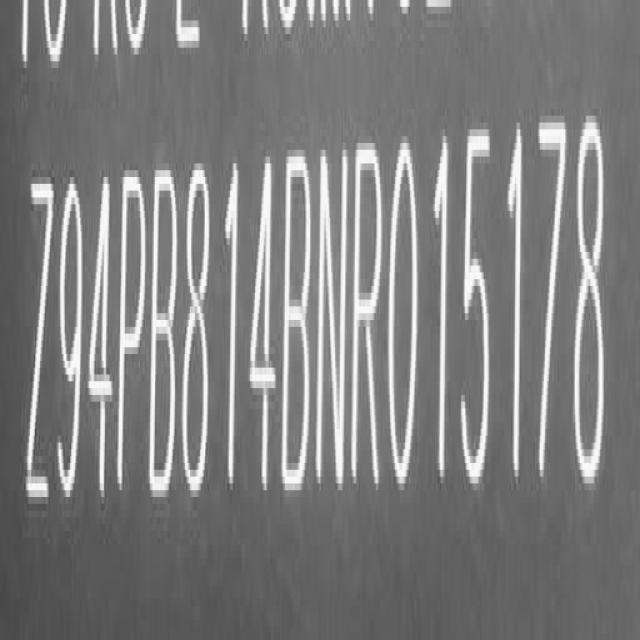0: (391, 134, 423, 500)
1: (431, 128, 453, 498), (506, 115, 526, 502), (224, 154, 242, 503)
4: (248, 152, 278, 504), (89, 174, 115, 515)
5: (459, 114, 492, 499)
7: (538, 109, 570, 499)
8: (574, 109, 609, 494), (187, 158, 214, 506)
9: (56, 177, 85, 515)
B: (284, 145, 318, 499), (150, 162, 182, 512)
N: (318, 140, 349, 500)
P: (118, 170, 148, 512)
R: (351, 137, 386, 499)
Z: (22, 177, 53, 524)
